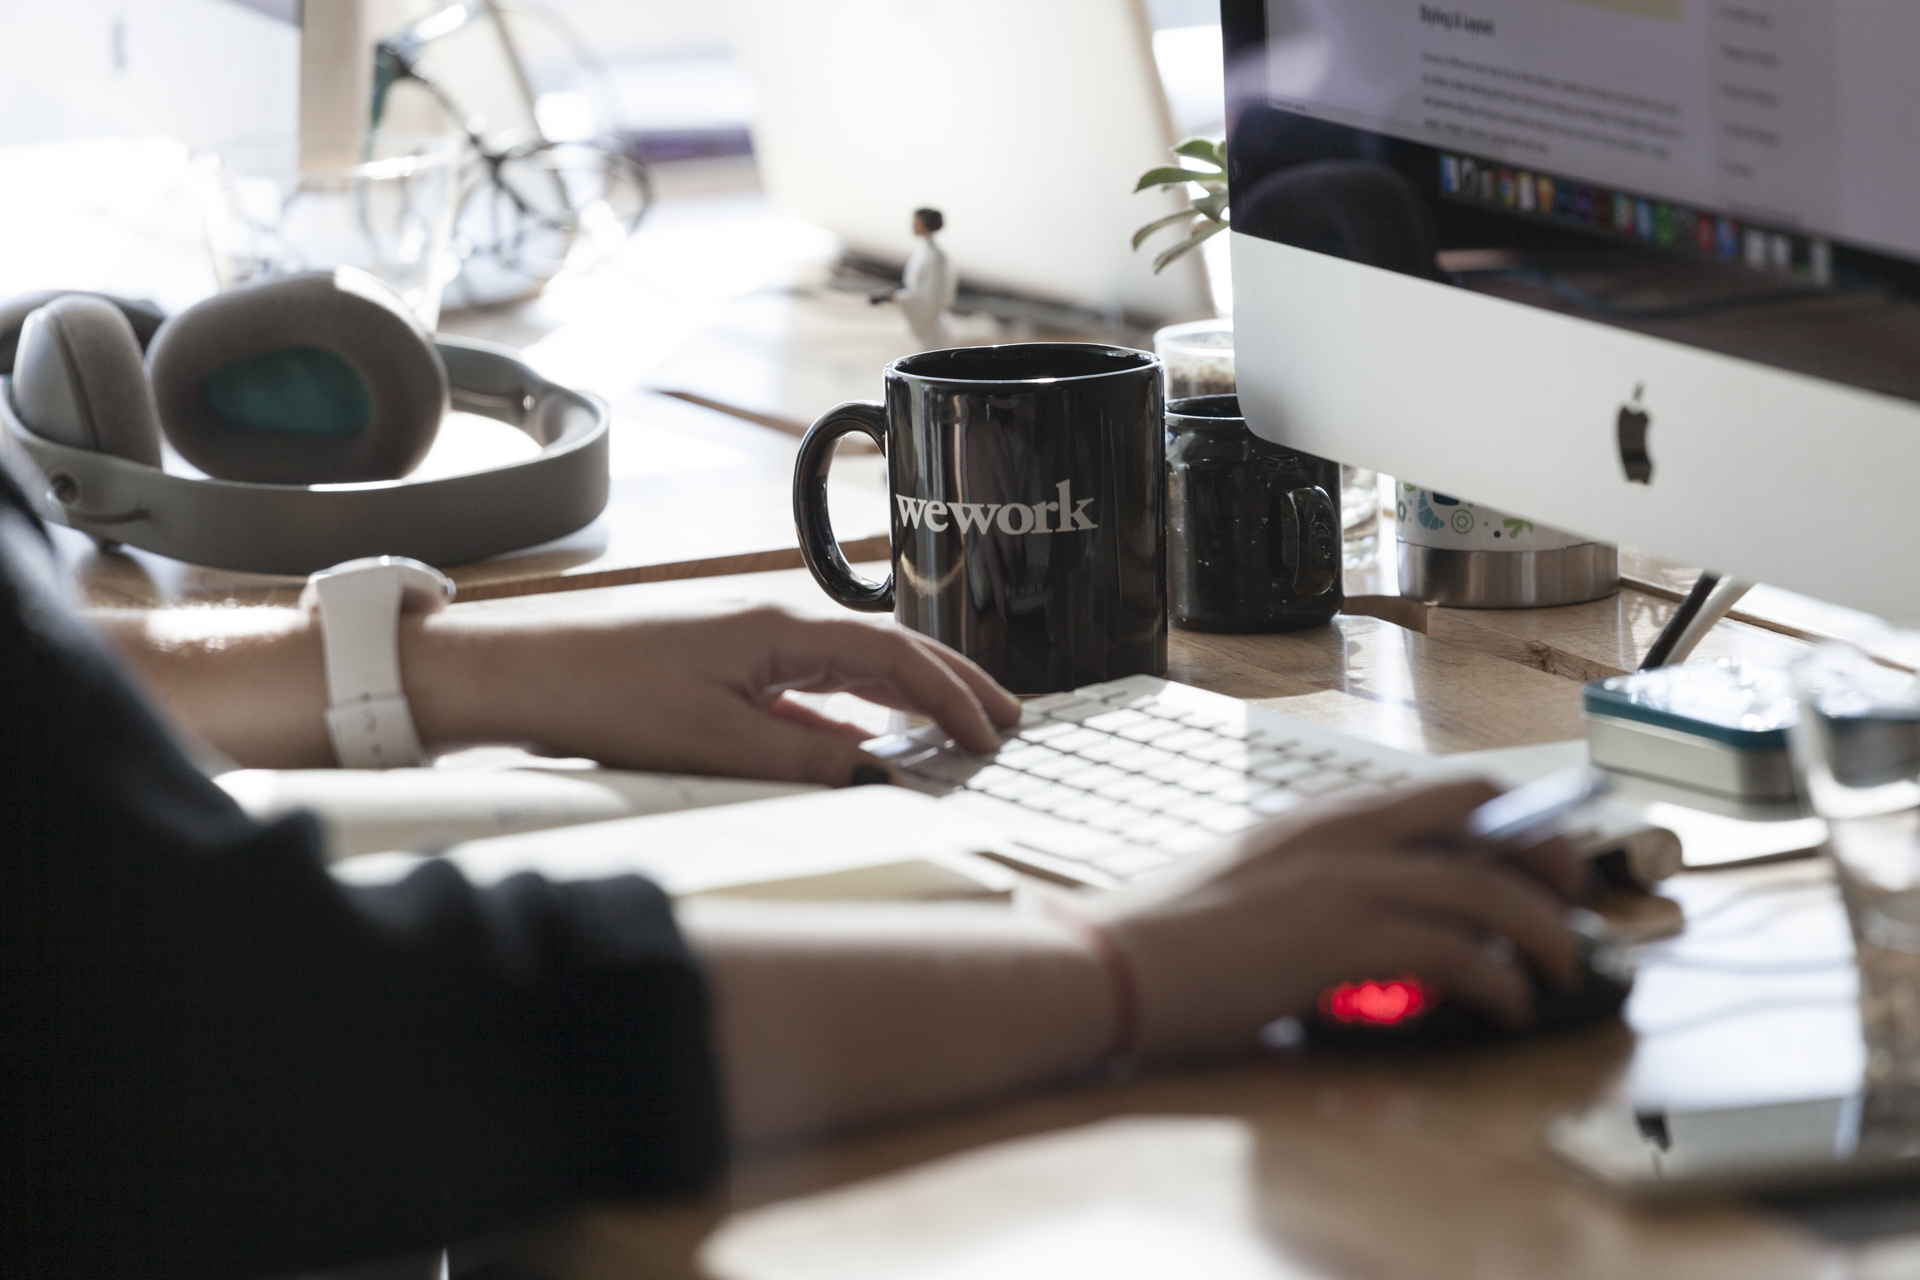wework: (891, 473, 1100, 539)
